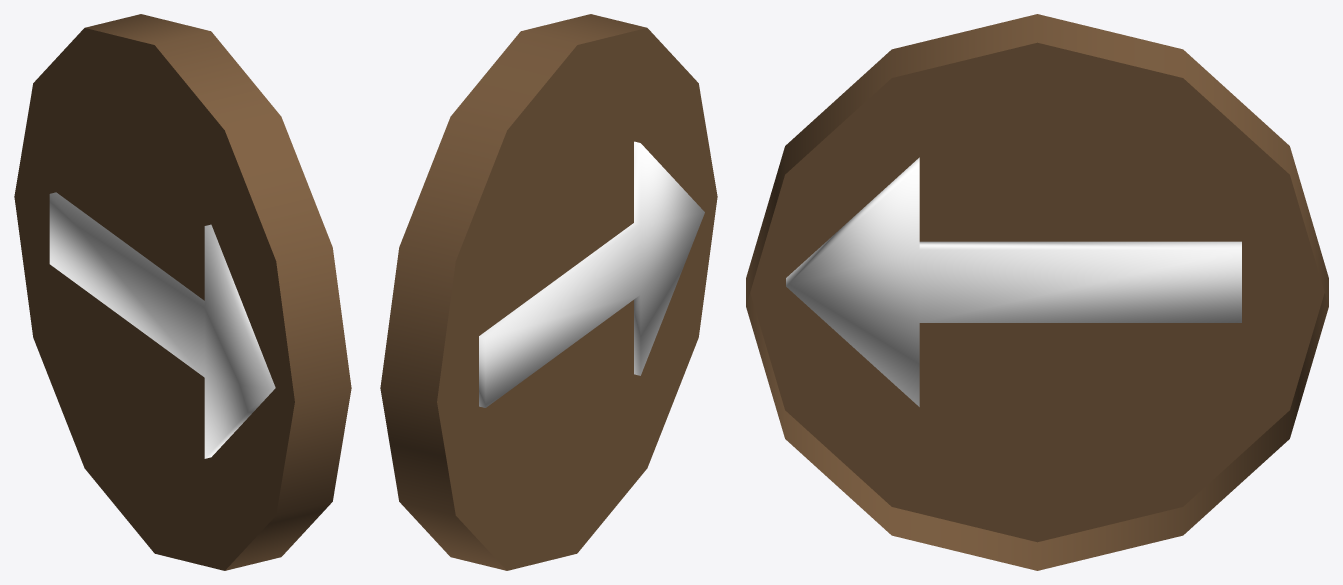
File: shop_button2.fbx
3 views of the same model, side by side, from view 1: azimuth 30°, elevation 25°; view 2: azimuth 150°, elevation 25°; view 3: azimuth 270°, elevation 25° (orthographic). The views are drawn at different scales.
Parts seen in each view (by area): view 1: shop_button2; view 2: shop_button2; view 3: shop_button2.
Part boxes in pixels (x1=…): shop_button2: x1=14, y1=14, x2=351, y2=570; shop_button2: x1=380, y1=14, x2=717, y2=570; shop_button2: x1=746, y1=14, x2=1328, y2=570.
Size of the model in its own units: 1.24 by 9.49 by 9.49.
